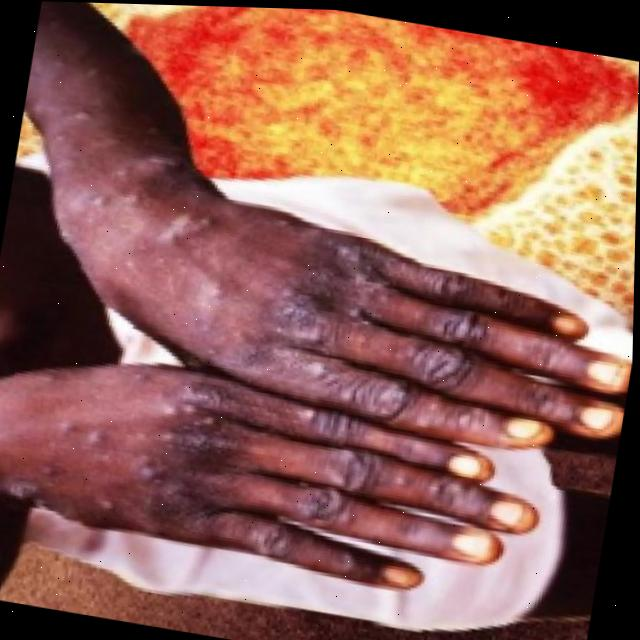Eczema: (73, 185, 445, 588)
